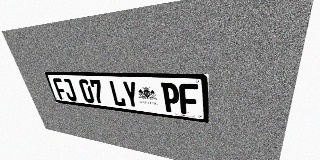0: (78, 79, 95, 103)
7: (89, 80, 106, 105)
F: (179, 83, 199, 116), (52, 78, 68, 100)
J: (61, 78, 78, 101)
L: (108, 80, 127, 107)
P: (161, 82, 180, 113)
Y: (122, 81, 140, 109)
